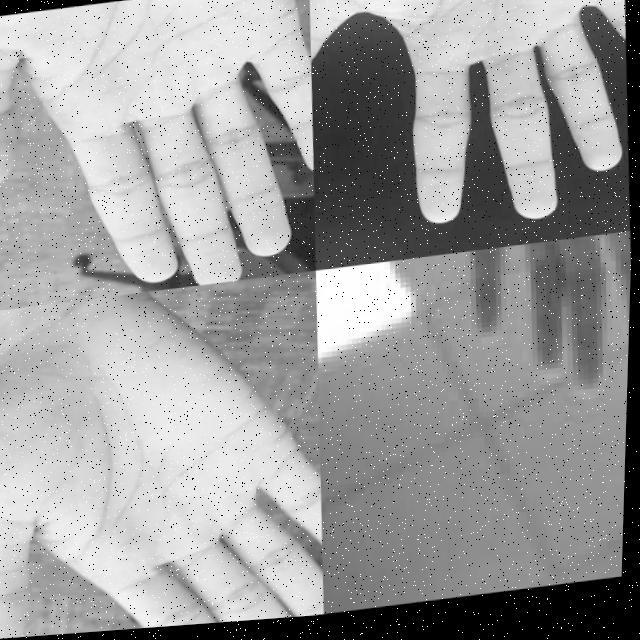no-gloves: (0, 278, 335, 640), (0, 0, 324, 312), (303, 0, 637, 258), (458, 240, 634, 422)
